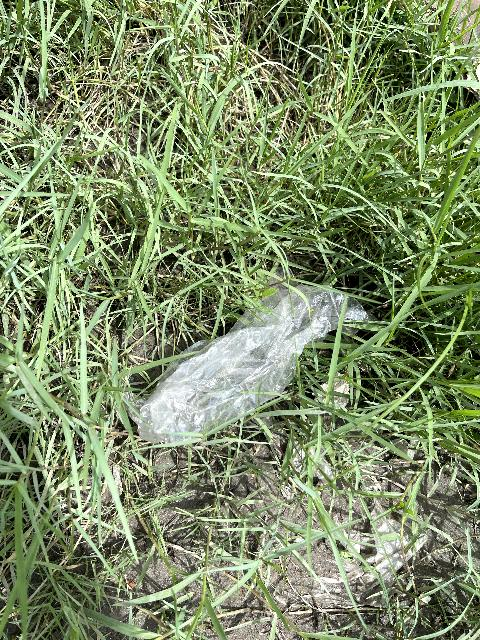polythene: (109, 275, 400, 468)
